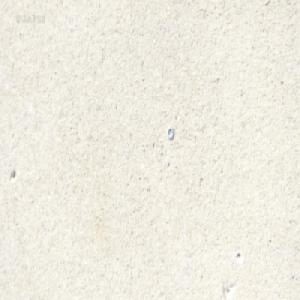Washer: (166, 125, 173, 139)
